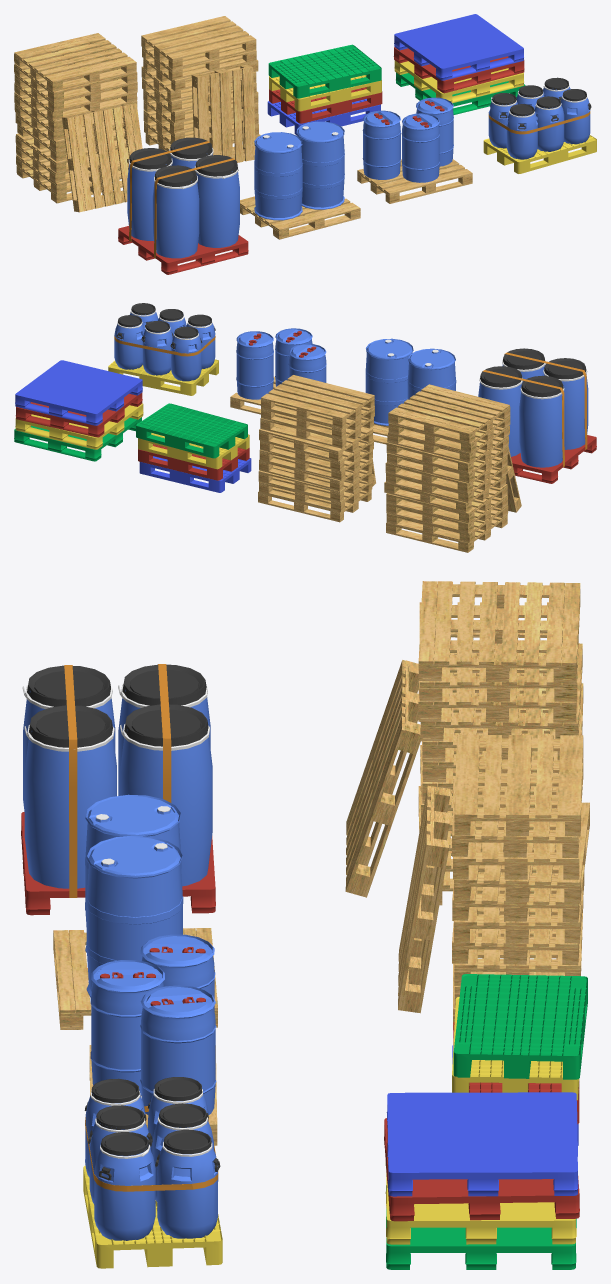
The model's file is plasticpallet.glb.
The picture shows the model from 3 angles, top to bottom: view 1: azimuth 30°, elevation 25°; view 2: azimuth 150°, elevation 25°; view 3: azimuth 270°, elevation 25°; orthographic projection. The views are drawn at different scales.
Parts seen in each view (by area): view 1: Object_15, Object_16, Object_5, Object_6, Object_9, Object_10, Object_11, Object_12, Object_3, Object_4, Object_2, Object_7; view 2: Object_15, Object_16, Object_5, Object_6, Object_9, Object_11, Object_12, Object_10, Object_3, Object_4, Object_2, Object_7; view 3: Object_15, Object_16, Object_5, Object_6, Object_9, Object_11, Object_12, Object_3, Object_10, Object_4, Object_2, Object_7 (+1 smaller).
Part boxes in pixels (bbox=[...]): Object_15: bbox=[14, 33, 360, 239]; Object_16: bbox=[141, 16, 472, 203]; Object_5: bbox=[127, 121, 344, 258]; Object_6: bbox=[362, 87, 590, 182]; Object_9: bbox=[267, 14, 523, 135]; Object_10: bbox=[118, 47, 524, 274]; Object_11: bbox=[268, 44, 525, 114]; Object_12: bbox=[269, 60, 596, 173]; Object_3: bbox=[129, 137, 237, 186]; Object_4: bbox=[492, 77, 591, 129]; Object_2: bbox=[129, 111, 590, 258]; Object_7: bbox=[128, 148, 238, 189]; Object_15: bbox=[258, 384, 521, 552]; Object_16: bbox=[230, 375, 375, 501]; Object_5: bbox=[365, 338, 588, 467]; Object_6: bbox=[114, 312, 326, 399]; Object_9: bbox=[15, 360, 251, 492]; Object_11: bbox=[14, 403, 247, 461]; Object_12: bbox=[15, 359, 249, 469]; Object_10: bbox=[15, 333, 596, 483]; Object_3: bbox=[480, 348, 586, 397]; Object_4: bbox=[116, 303, 215, 348]; Object_2: bbox=[114, 335, 587, 467]; Object_7: bbox=[479, 359, 587, 399]; Object_15: bbox=[53, 581, 583, 1029]; Object_16: bbox=[89, 734, 589, 1145]; Object_5: bbox=[23, 689, 212, 997]; Object_6: bbox=[85, 934, 218, 1240]; Object_9: bbox=[386, 1045, 578, 1196]; Object_11: bbox=[386, 974, 587, 1269]; Object_12: bbox=[83, 997, 579, 1268]; Object_3: bbox=[27, 664, 208, 747]; Object_10: bbox=[21, 812, 579, 1221]; Object_4: bbox=[84, 1077, 220, 1180]; Object_2: bbox=[64, 664, 218, 1191]; Object_7: bbox=[22, 684, 209, 751].
Size of the model in its own units: 6.71 by 1.7 by 3.61.
11 materials, 1 textured.
